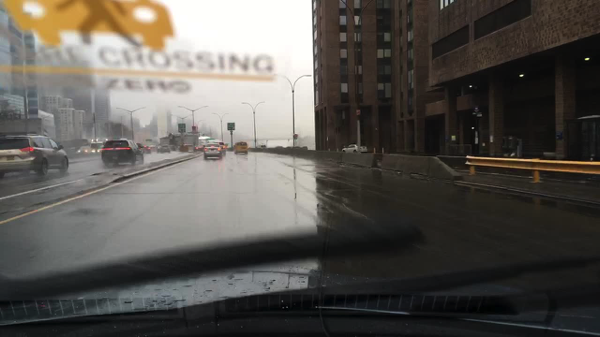car: (100, 138, 146, 166), (203, 144, 224, 160), (341, 143, 368, 154), (212, 140, 226, 154), (234, 141, 248, 155), (76, 145, 90, 155), (136, 142, 146, 152), (162, 144, 172, 154), (193, 145, 204, 152), (155, 145, 162, 152), (144, 146, 152, 152), (175, 144, 181, 152), (151, 144, 157, 151), (169, 144, 174, 151)
traffic sign: (469, 106, 482, 118), (176, 122, 185, 132), (226, 122, 234, 132), (354, 108, 360, 116)
truck: (90, 140, 103, 154)
